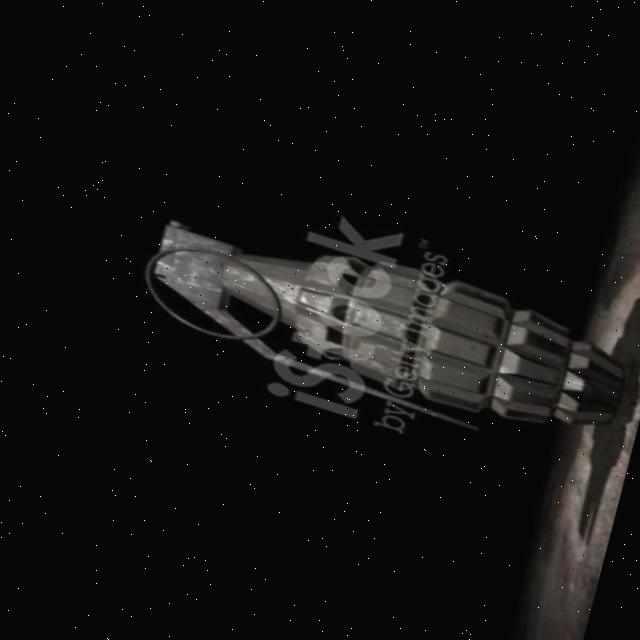grenade: (123, 183, 640, 468)
